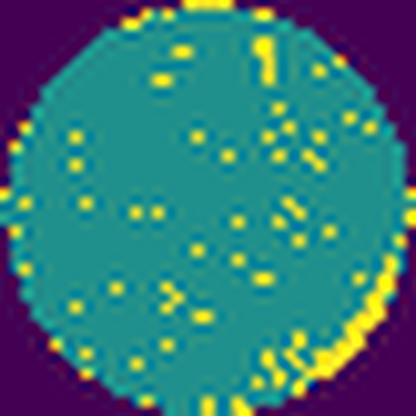Edge-Loc: (281, 240, 408, 400)
